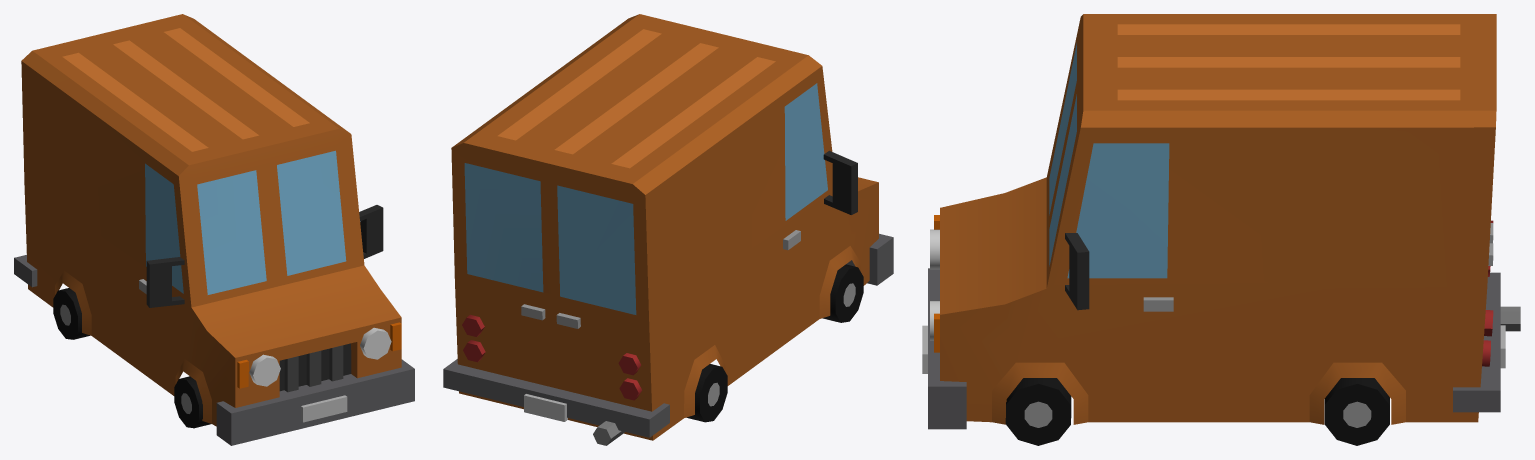
File: Car_020.fbx
3 renders of one model, left to right at view 1: azimuth 30°, elevation 25°; view 2: azimuth 150°, elevation 25°; view 3: azimuth 270°, elevation 25°, orthographic. The views are drawn at different scales.
Visible parts, largest first — view 1: Car_020; view 2: Car_020; view 3: Car_020.
Part boxes in pixels (x1=…): Car_020: x1=14, y1=14, x2=414, y2=445; Car_020: x1=443, y1=14, x2=893, y2=445; Car_020: x1=922, y1=14, x2=1520, y2=445.
Bounding box in the file's own units: 166 × 166 × 279.
